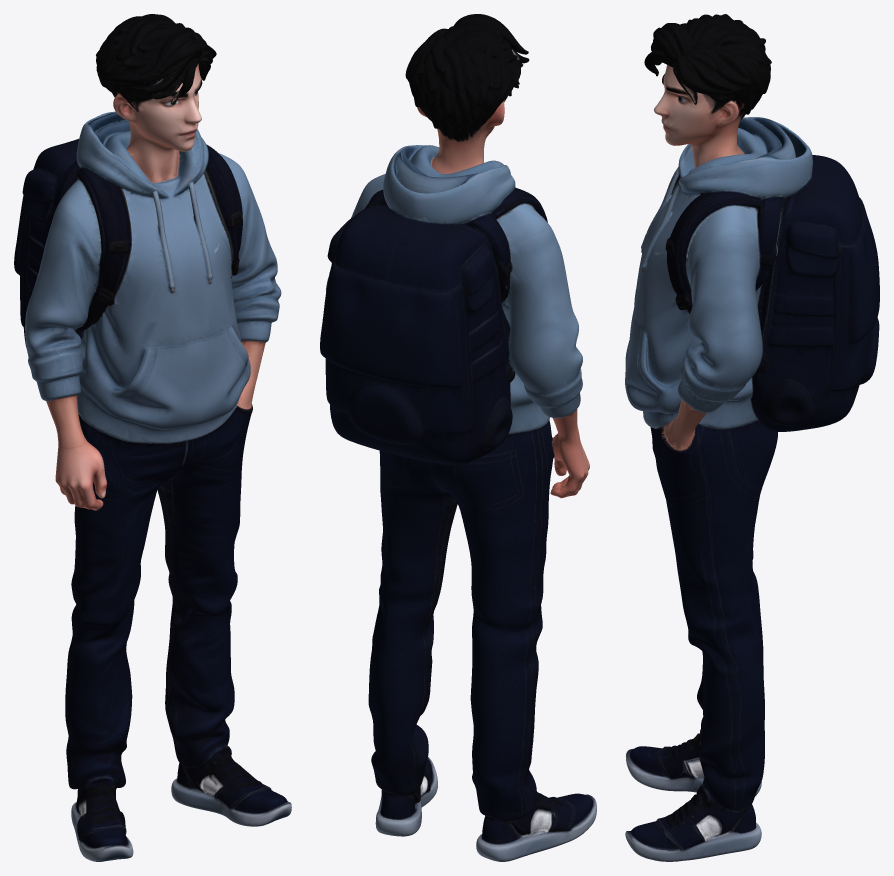
The model's file is trellis-student.glb.
3 renders of one model, left to right at view 1: azimuth 30°, elevation 25°; view 2: azimuth 150°, elevation 25°; view 3: azimuth 270°, elevation 25°, orthographic.
Visible parts, largest first — view 1: mesh_node; view 2: mesh_node; view 3: mesh_node.
Part boxes in pixels (x1,y1,x2,y2): mesh_node: (14, 14, 291, 861); mesh_node: (320, 14, 596, 861); mesh_node: (625, 14, 879, 861).
Bounding box in the file's own units: 0.6103 × 1.9 × 0.552.
Materials: 1 (1 with a texture image).
